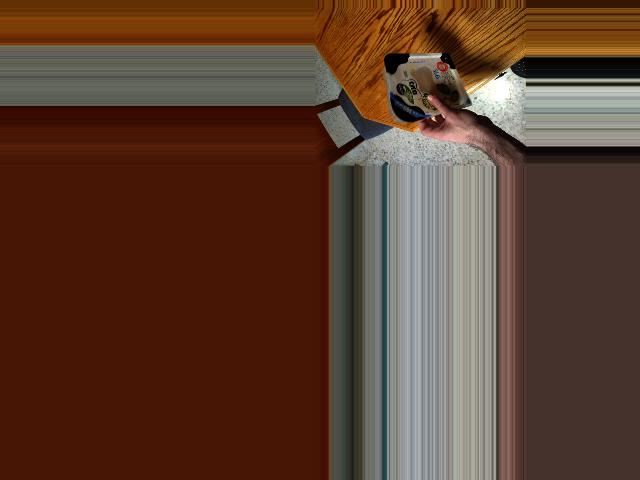cheese: (381, 59, 465, 111)
